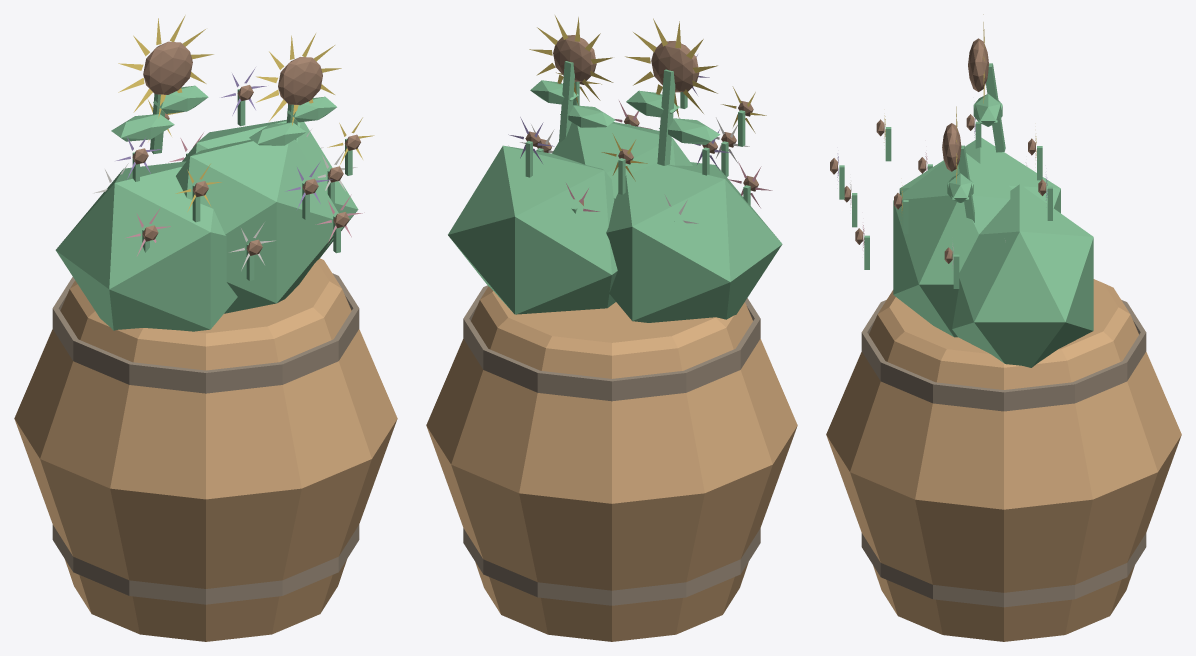
The model's file is barrel-flowers.glb.
3 views of the same model, side by side, from view 1: azimuth 30°, elevation 25°; view 2: azimuth 150°, elevation 25°; view 3: azimuth 270°, elevation 25° (orthographic). The views are drawn at different scales.
Visible parts, largest first — view 1: barrel_flowers_wood, barrel_flowers_leaf_mid, barrel_flowers_metal, barrel_flowers_wood_dark, barrel_flowers_yellow, barrel_flowers_purple; view 2: barrel_flowers_wood, barrel_flowers_leaf_mid, barrel_flowers_metal, barrel_flowers_wood_dark, barrel_flowers_yellow; view 3: barrel_flowers_wood, barrel_flowers_leaf_mid, barrel_flowers_metal, barrel_flowers_wood_dark.
Part boxes in pixels (box(x1,y1,x2,y2)): barrel_flowers_wood: box(14, 258, 397, 641); barrel_flowers_leaf_mid: box(55, 85, 358, 331); barrel_flowers_metal: box(52, 273, 359, 604); barrel_flowers_wood_dark: box(132, 41, 360, 255); barrel_flowers_yellow: box(118, 15, 374, 211); barrel_flowers_purple: box(116, 67, 332, 209); barrel_flowers_wood: box(426, 286, 797, 641); barrel_flowers_leaf_mid: box(448, 61, 782, 322); barrel_flowers_metal: box(463, 285, 760, 605); barrel_flowers_wood_dark: box(525, 35, 758, 205); barrel_flowers_yellow: box(529, 15, 766, 181); barrel_flowers_wood: box(826, 279, 1181, 641); barrel_flowers_leaf_mid: box(839, 63, 1093, 367); barrel_flowers_metal: box(861, 300, 1146, 607); barrel_flowers_wood_dark: box(830, 38, 1046, 263).
Bounding box in the file's own units: 0.9 × 1.53 × 0.9.
